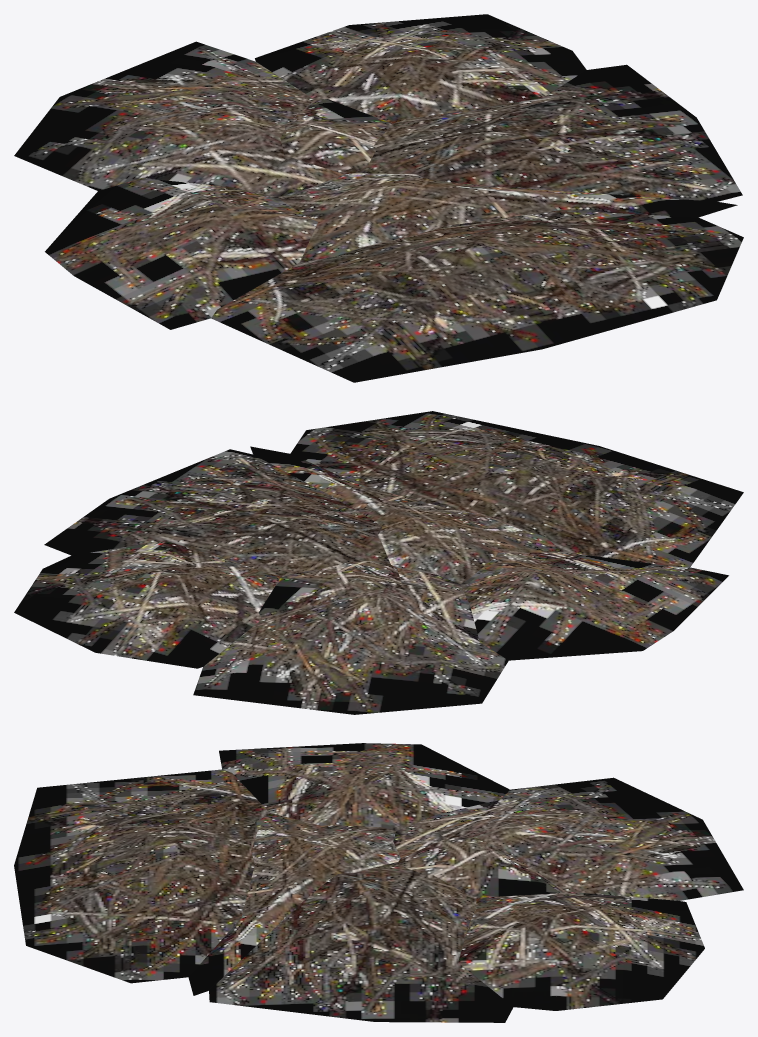
The model's file is JAIL_Debris_WoodStick_A-transformed.glb.
The picture shows the model from 3 angles, top to bottom: view 1: azimuth 30°, elevation 25°; view 2: azimuth 150°, elevation 25°; view 3: azimuth 270°, elevation 25°; orthographic projection. The views are drawn at different scales.
Visible parts, largest first — view 1: default; view 2: default; view 3: default.
Part boxes in pixels (x1=…): default: x1=14, y1=14, x2=743, y2=382; default: x1=14, y1=411, x2=743, y2=714; default: x1=14, y1=743, x2=743, y2=1022.
Size of the model in its own units: 1.46 by 0.0689 by 1.61.
Materials: 1 (1 with a texture image).
